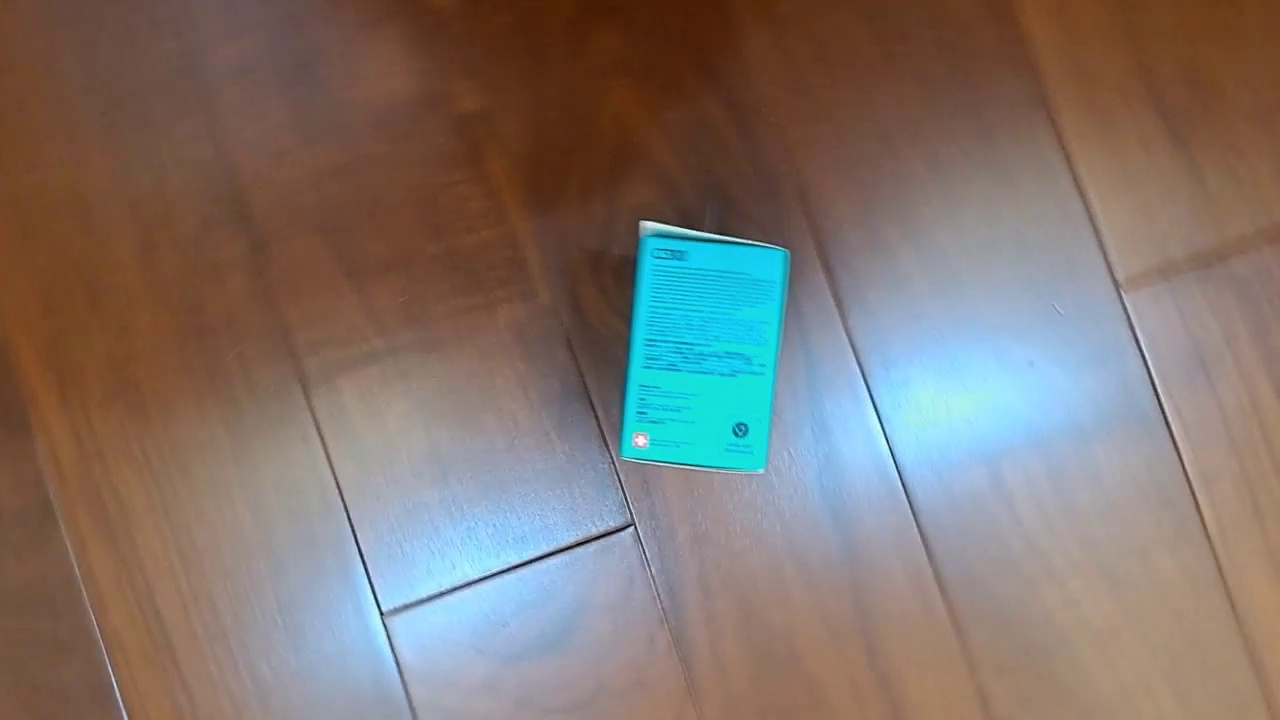webcam: (615, 218, 792, 476)
